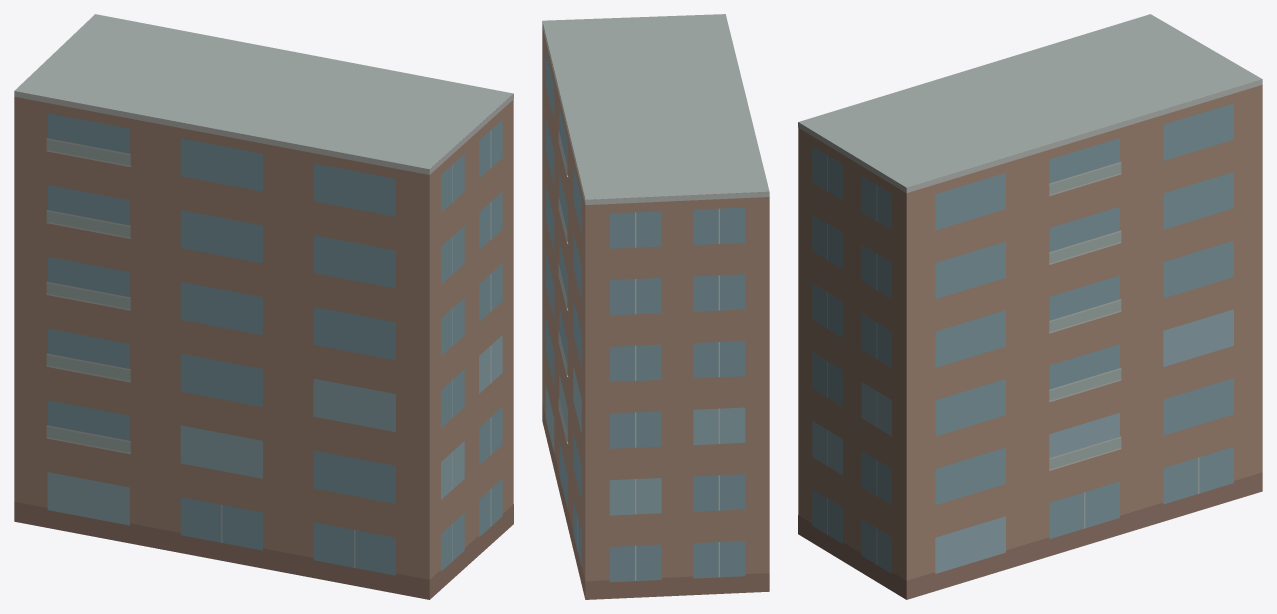
Rendered from survey-upis-32868555.glb.
3 views of the same model, side by side, from view 1: azimuth 30°, elevation 25°; view 2: azimuth 150°, elevation 25°; view 3: azimuth 270°, elevation 25° (orthographic). The views are drawn at different scales.
Visible parts, largest first — view 1: survey-upis-32868555.tmp; view 2: survey-upis-32868555.tmp; view 3: survey-upis-32868555.tmp.
Boxes of the visible parts, bbox=[...] form: survey-upis-32868555.tmp: bbox=[14, 14, 513, 599]; survey-upis-32868555.tmp: bbox=[542, 14, 769, 599]; survey-upis-32868555.tmp: bbox=[798, 14, 1262, 599].
Bounding box in the file's own units: 16.55 × 18.3 × 18.7.
